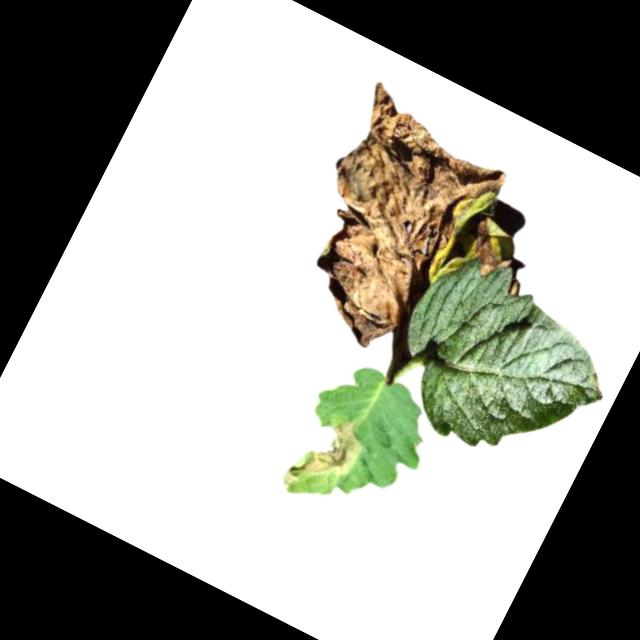Late_blight: (266, 77, 520, 369), (276, 401, 376, 516), (462, 217, 526, 286)
